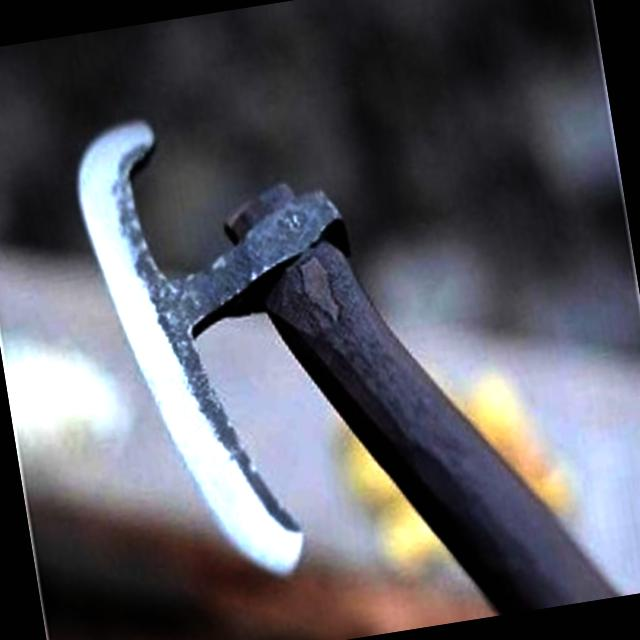ax: (51, 40, 617, 640)
